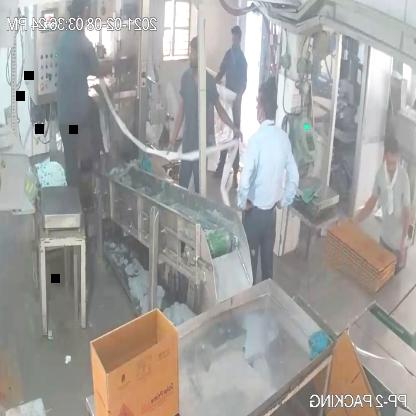no_glove: (271, 144, 304, 218), (232, 137, 261, 209), (163, 86, 191, 160), (208, 87, 248, 137), (388, 193, 414, 268), (89, 39, 127, 83), (350, 186, 380, 232)
